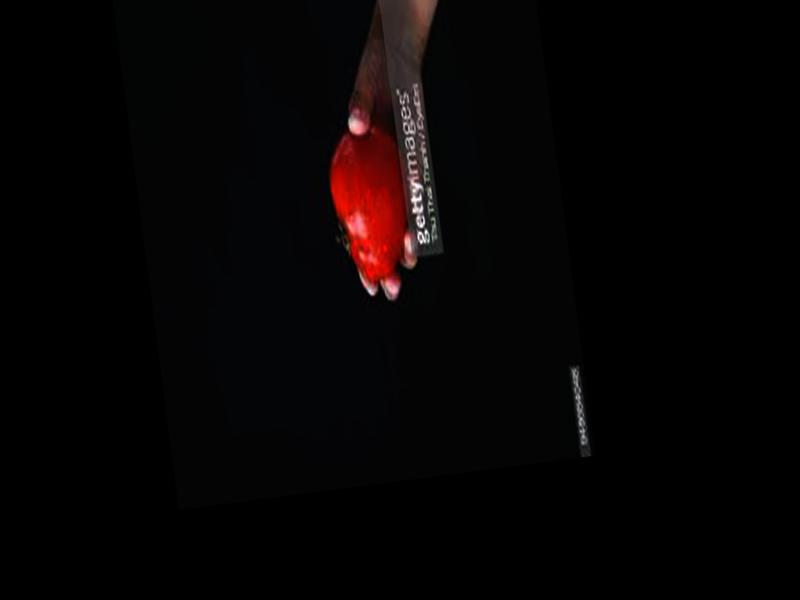Tomato: (323, 125, 418, 290)
